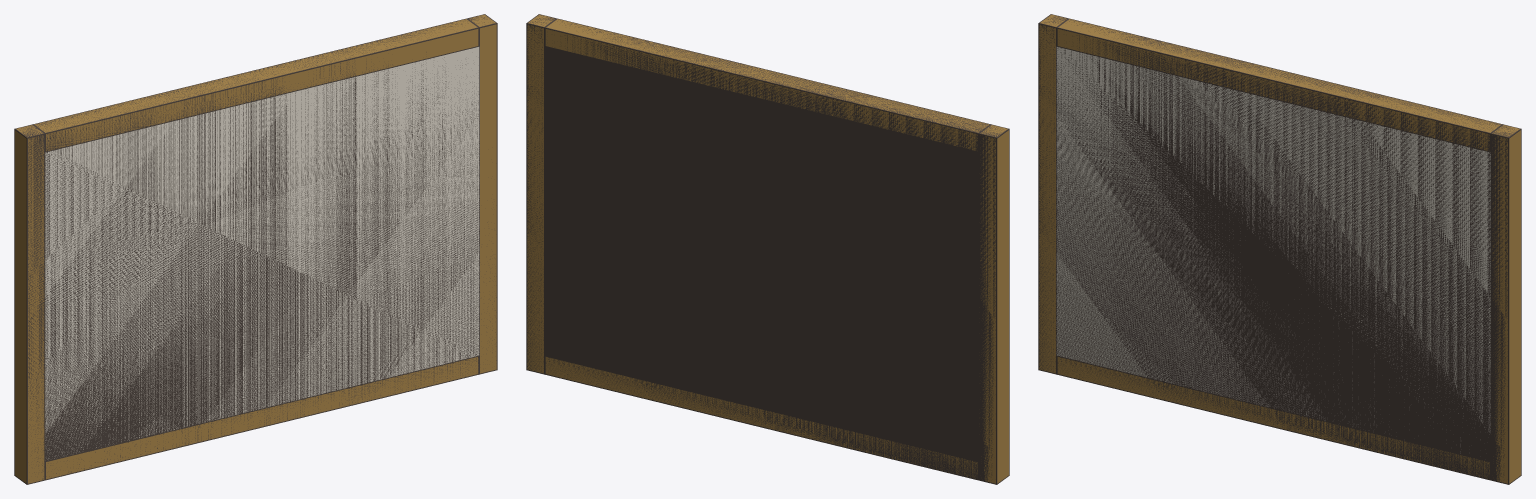
The model's file is wall_art_14.glb.
3 renders of one model, left to right at view 1: azimuth 30°, elevation 25°; view 2: azimuth 150°, elevation 25°; view 3: azimuth 330°, elevation 25°, orthographic.
Visible parts, largest first — view 1: art_mat, WallArt_COL, frame_top, frame_left, frame_bottom, frame_right; view 2: WallArt_COL, frame_top, frame_left, frame_bottom, frame_right; view 3: WallArt_COL, art_mat, frame_top, frame_right, frame_bottom, frame_left.
Part boxes in pixels (<box>): art_mat: <box>45,47,479,459</box>; WallArt_COL: <box>14,14,497,484</box>; frame_top: <box>34,19,478,151</box>; frame_left: <box>15,125,44,483</box>; frame_bottom: <box>46,357,478,479</box>; frame_right: <box>469,14,496,373</box>; WallArt_COL: <box>526,14,1009,484</box>; frame_top: <box>545,19,989,150</box>; frame_left: <box>980,125,1008,483</box>; frame_bottom: <box>545,357,977,478</box>; frame_right: <box>527,14,554,373</box>; WallArt_COL: <box>1038,14,1521,484</box>; art_mat: <box>1056,47,1490,453</box>; frame_top: <box>1057,19,1501,150</box>; frame_right: <box>1492,125,1520,483</box>; frame_bottom: <box>1057,357,1489,478</box>; frame_left: <box>1039,14,1066,373</box>.
Bounding box in the file's own units: 1.08 × 0.764 × 0.05.
